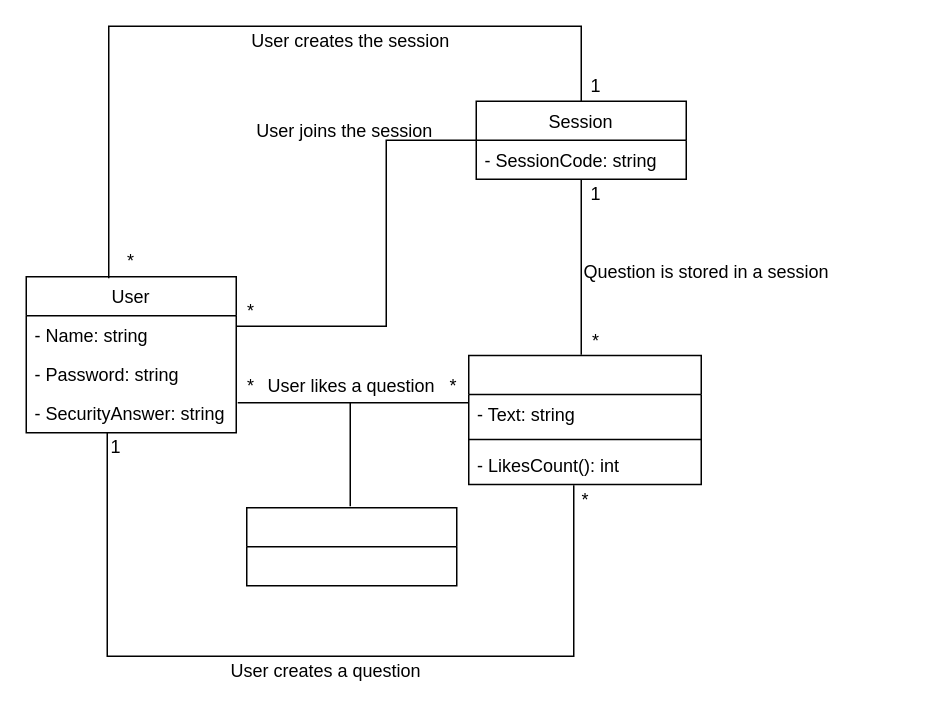
This 938x725 diagram has some shape labels left out. The shapes that lost their labels are listed below. From the top down, each one's box as (x1, y1, x2, y2) in pixels, then its label:
(467, 354, 701, 484): Question
(245, 506, 457, 586): - Liked: bool
